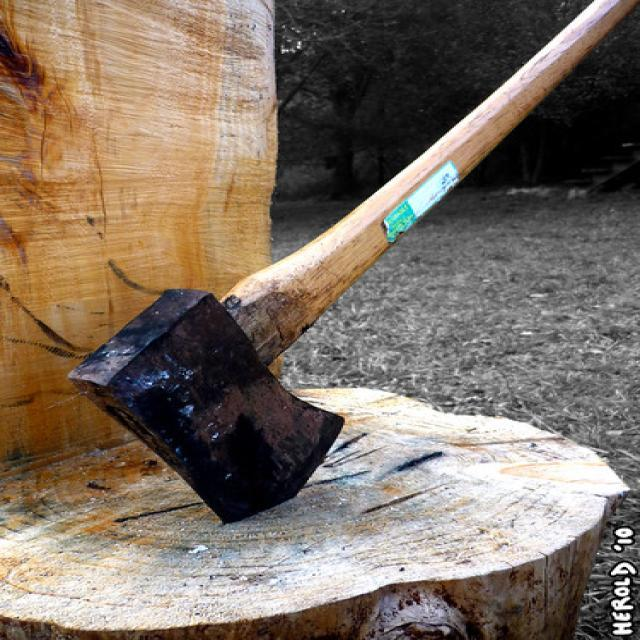Axe: (69, 0, 639, 522)
